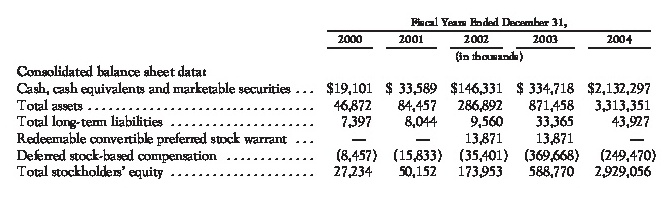table: (0, 0, 672, 197)
